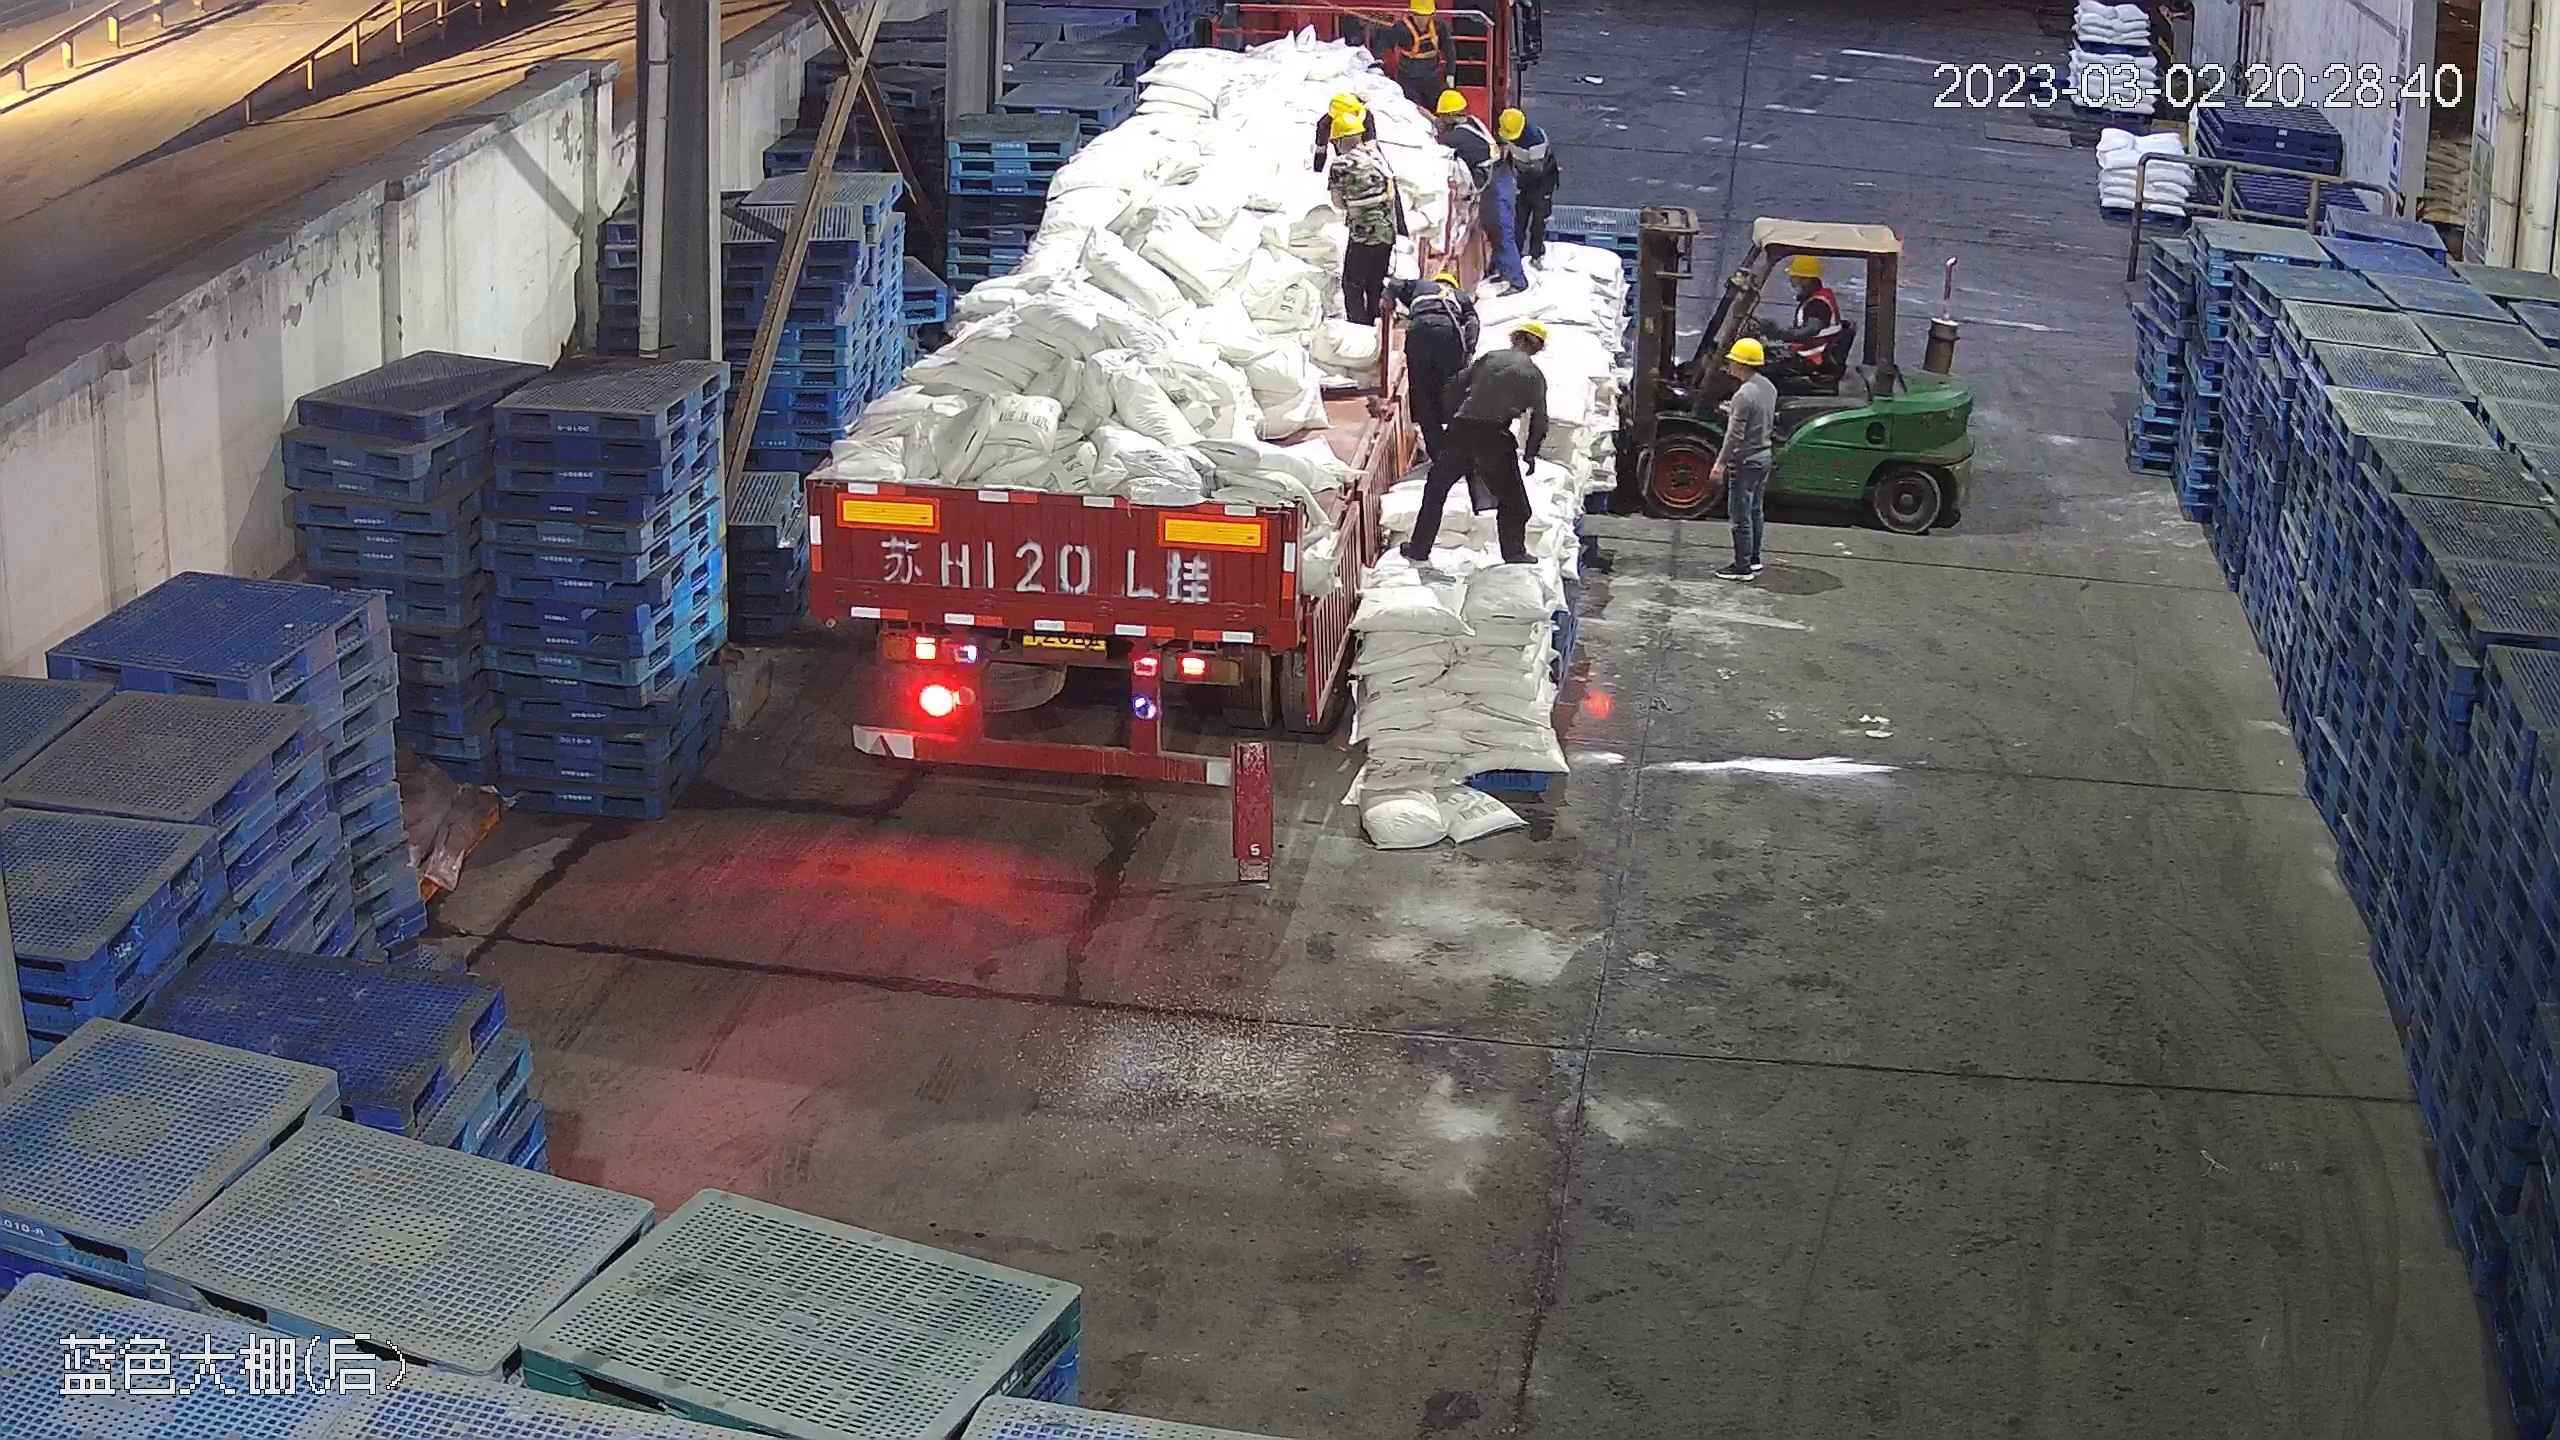belt: (1337, 141, 1393, 210), (1458, 114, 1505, 171), (1394, 5, 1445, 57), (1412, 276, 1469, 317)
head: (1467, 316, 1549, 398), (1317, 90, 1396, 172), (1433, 86, 1494, 168), (1714, 334, 1777, 412), (1778, 251, 1840, 329), (1485, 100, 1552, 167), (1390, 1, 1455, 54)
helmet: (1326, 108, 1363, 144), (1494, 104, 1529, 139), (1325, 91, 1367, 121), (1726, 336, 1765, 366), (1510, 318, 1550, 347), (1430, 89, 1466, 117), (1432, 265, 1467, 294), (1787, 251, 1822, 276)
people: (1397, 310, 1548, 573), (1314, 107, 1407, 338), (1705, 333, 1779, 581), (1447, 93, 1515, 285), (1490, 103, 1558, 284), (1378, 1, 1455, 131), (1770, 248, 1843, 372)
truck: (798, 14, 1430, 789)
